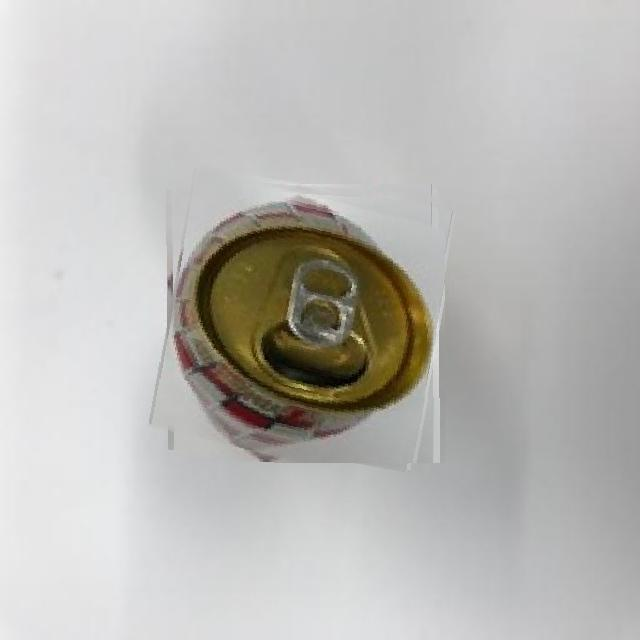recyclable: (159, 176, 445, 463)
